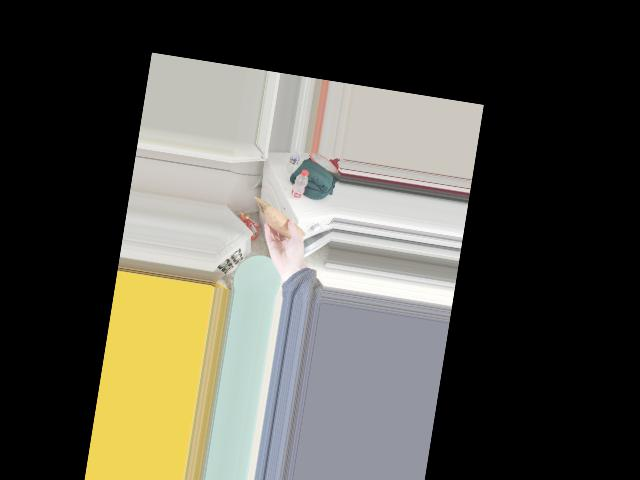sweet_potato: (262, 207, 299, 238)
